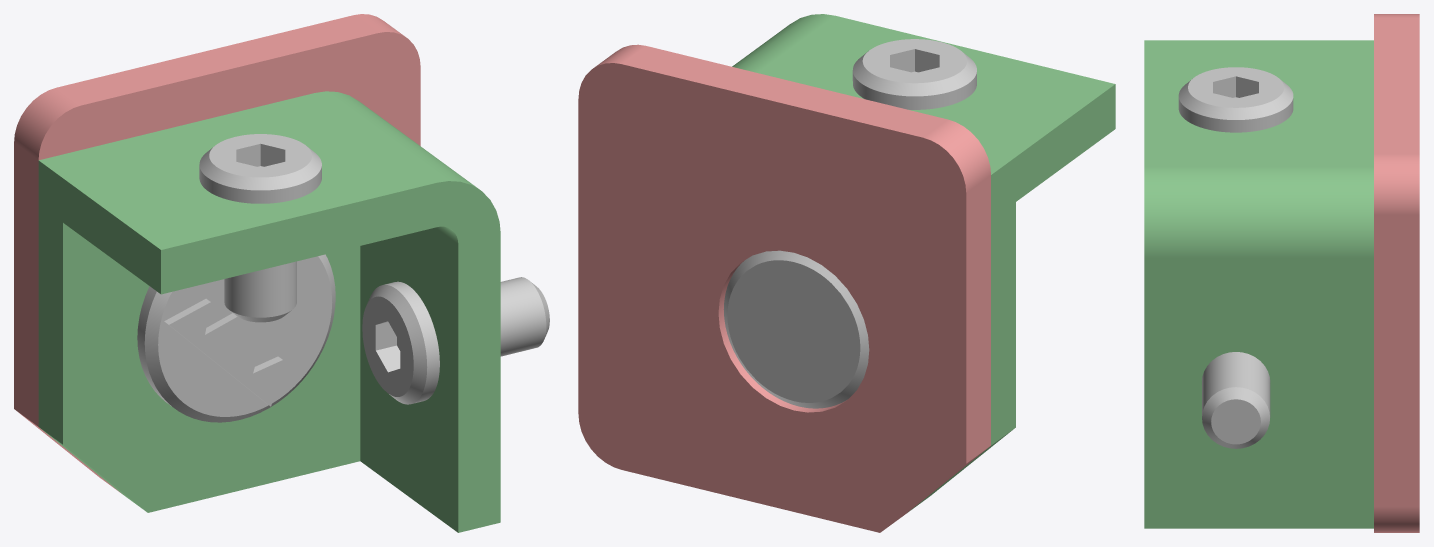
File: design-testing-with-tutorial.glb
3 views of the same model, side by side, from view 1: azimuth 30°, elevation 25°; view 2: azimuth 150°, elevation 25°; view 3: azimuth 270°, elevation 25° (orthographic). The views are drawn at different scales.
Visible parts, largest first — view 1: Body1_node, Body1, Body1_node_2, Body1_node_1, Body1_node_0; view 2: Body1, Body1_node, Body1_node_2, Body1_node_0; view 3: Body1_node, Body1, Body1_node_0, Body1_node_1.
Boxes of the visible parts, x1,y1,x2,y2 form: Body1_node: (38, 91, 500, 532); Body1: (14, 14, 420, 493); Body1_node_2: (137, 254, 335, 422); Body1_node_1: (362, 277, 549, 404); Body1_node_0: (199, 134, 321, 322); Body1: (578, 44, 990, 532); Body1_node: (732, 14, 1115, 512); Body1_node_2: (723, 250, 869, 408); Body1_node_0: (852, 39, 976, 109); Body1_node: (1144, 40, 1373, 528); Body1: (1374, 14, 1419, 532); Body1_node_0: (1178, 67, 1293, 132); Body1_node_1: (1202, 352, 1270, 448).
Bounding box in the file's own units: 100 × 90 × 60.
